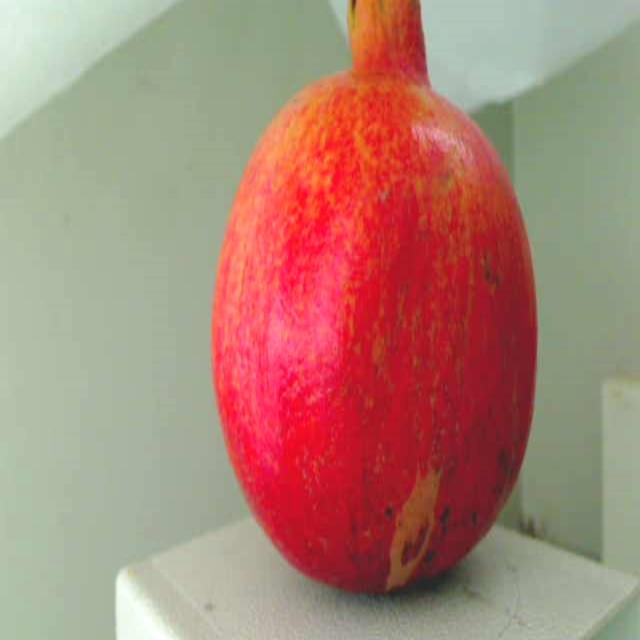pomegranate: (209, 0, 557, 600)
